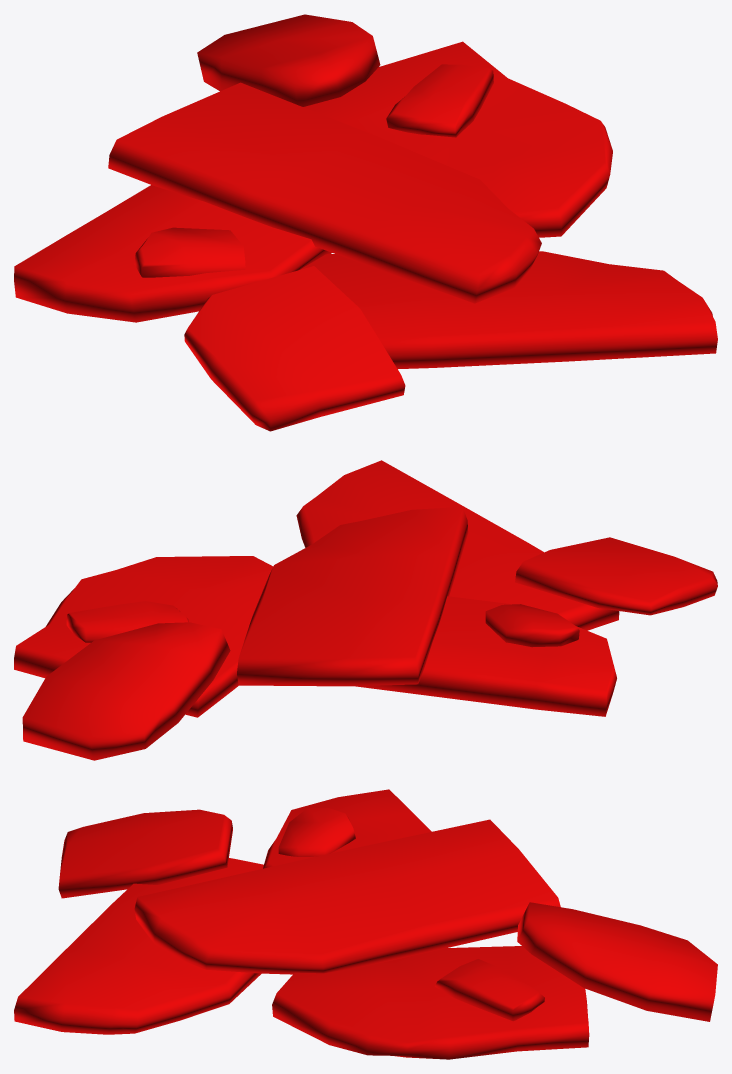
File: Rubble_Debris_07_Lod0.fbx
3 renders of one model, top to bottom at view 1: azimuth 30°, elevation 25°; view 2: azimuth 150°, elevation 25°; view 3: azimuth 270°, elevation 25°, orthographic. The views are drawn at different scales.
Visible parts, largest first — view 1: Rubble_Debris_07_Lod0; view 2: Rubble_Debris_07_Lod0; view 3: Rubble_Debris_07_Lod0.
Boxes of the visible parts, <box> form: Rubble_Debris_07_Lod0: <box>14,14,717,431</box>; Rubble_Debris_07_Lod0: <box>14,460,717,760</box>; Rubble_Debris_07_Lod0: <box>14,789,717,1059</box>.
Size of the model in its own units: 449 by 62.48 by 539.
